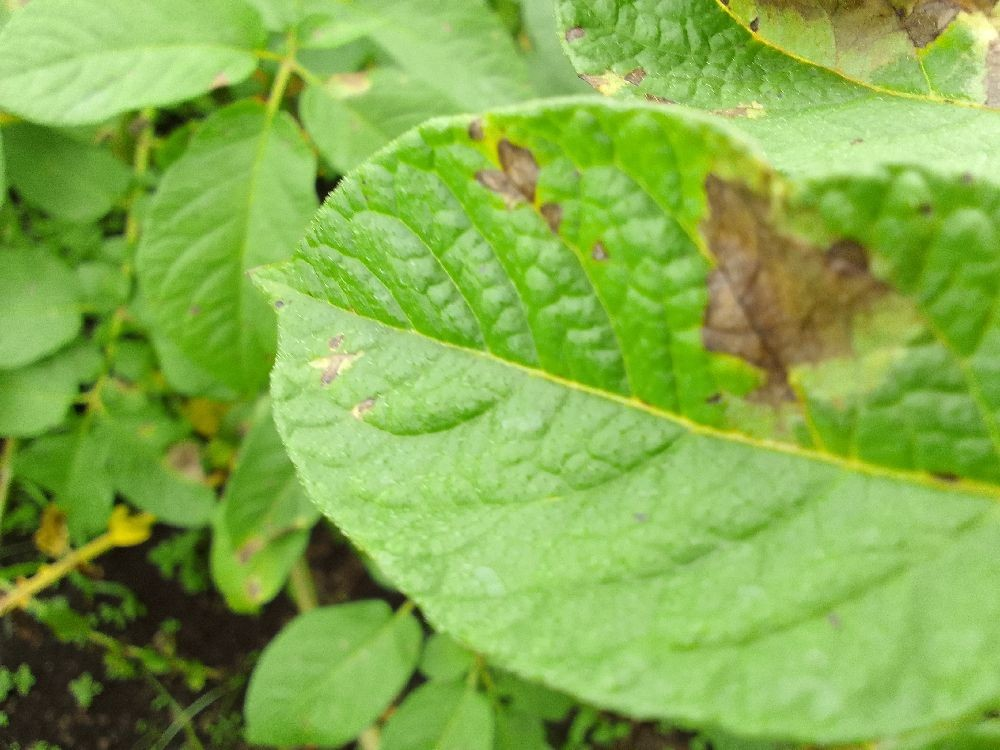late_blight: (0, 464, 359, 750), (682, 152, 910, 428), (728, 0, 1000, 77), (287, 506, 435, 632)
